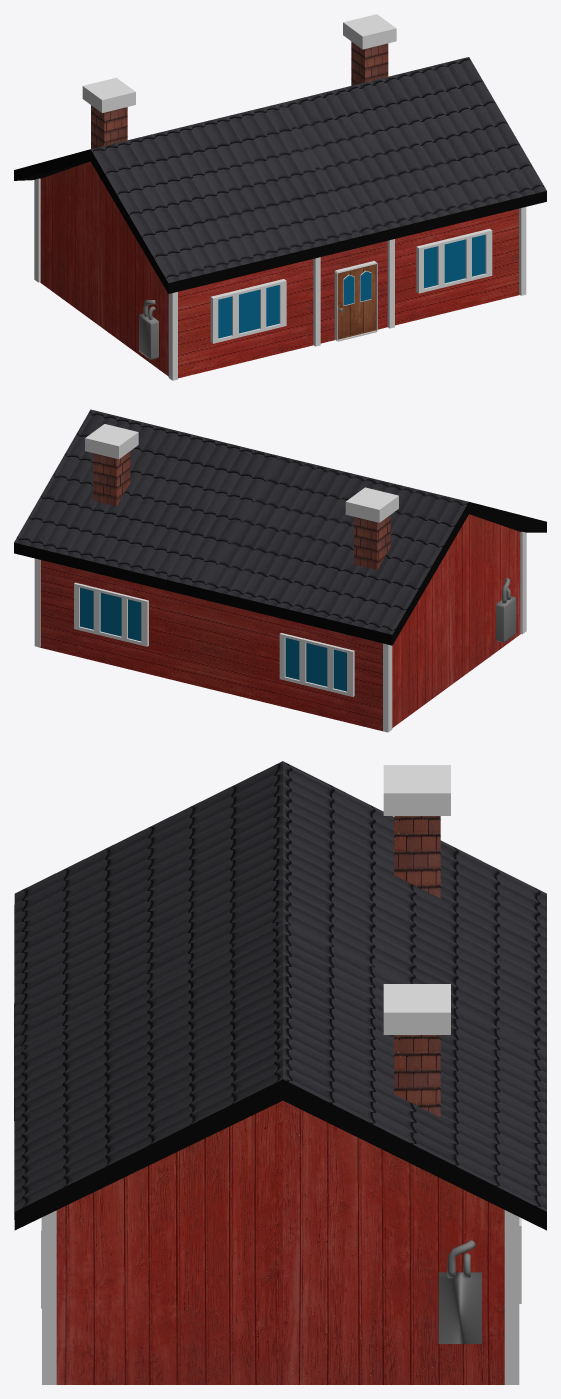
The model's file is Village_house_7.fbx.
3 views of the same model, one above another, from view 1: azimuth 30°, elevation 25°; view 2: azimuth 150°, elevation 25°; view 3: azimuth 270°, elevation 25° (orthographic). The views are drawn at different scales.
Parts seen in each view (by area): view 1: Cube.012; view 2: Cube.012; view 3: Cube.012.
Part boxes in pixels (<box>): Cube.012: <box>14,14,546,380</box>; Cube.012: <box>14,409,546,732</box>; Cube.012: <box>14,761,546,1384</box>.
Bounding box in the file's own units: 1970 × 1005 × 1395.
